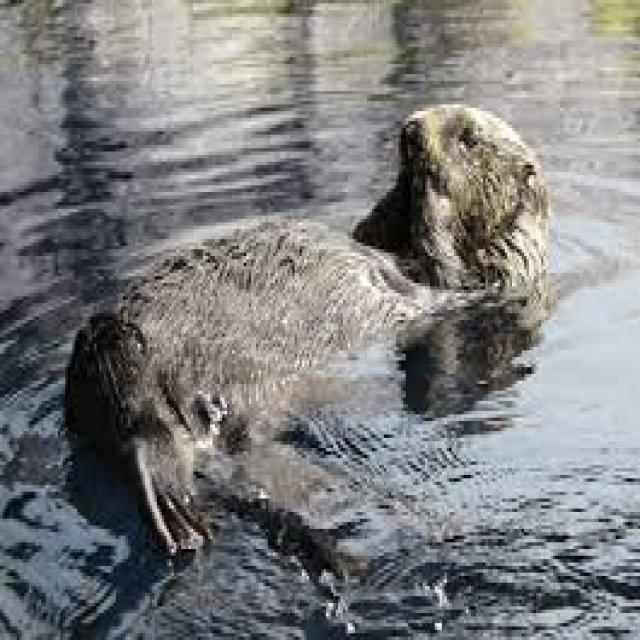Otter: (61, 92, 565, 544)
